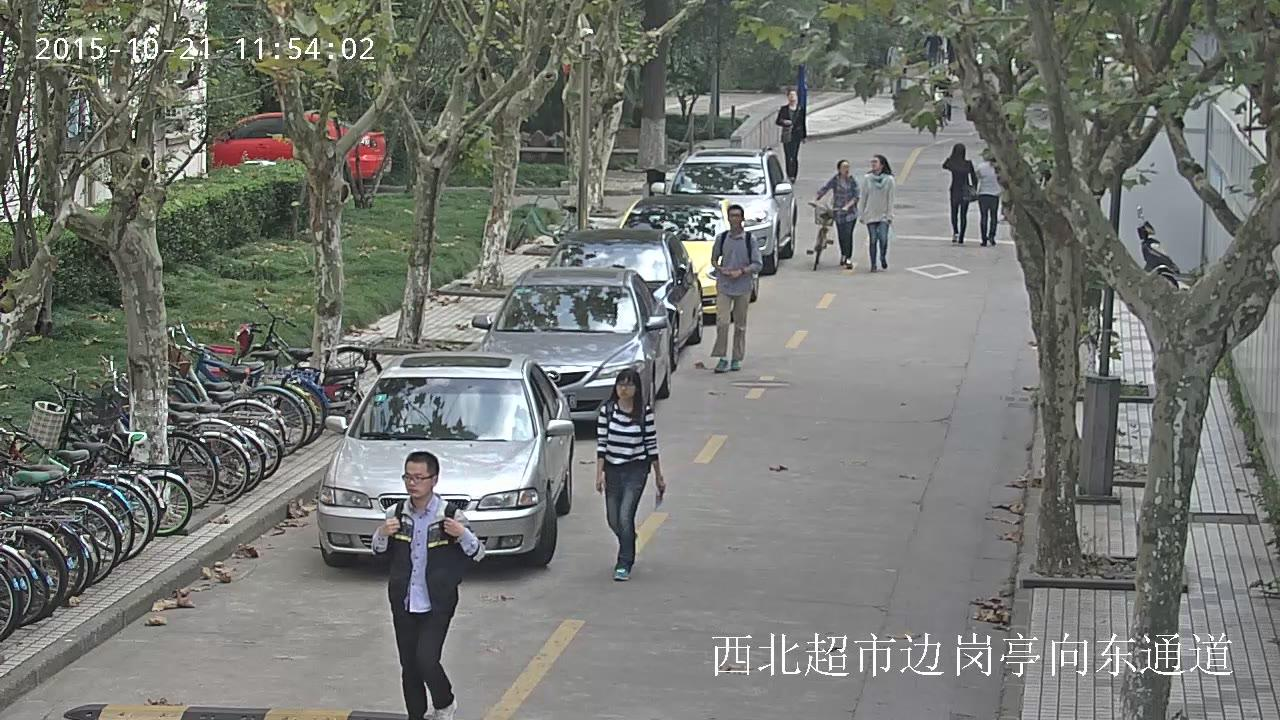person: (371, 451, 485, 720), (595, 368, 665, 581), (711, 205, 763, 373), (805, 159, 858, 270), (856, 154, 895, 272), (817, 160, 859, 269), (942, 143, 977, 243), (776, 90, 806, 182), (977, 148, 1002, 246), (932, 72, 952, 131), (886, 40, 906, 95), (932, 73, 952, 121), (923, 31, 941, 67)
